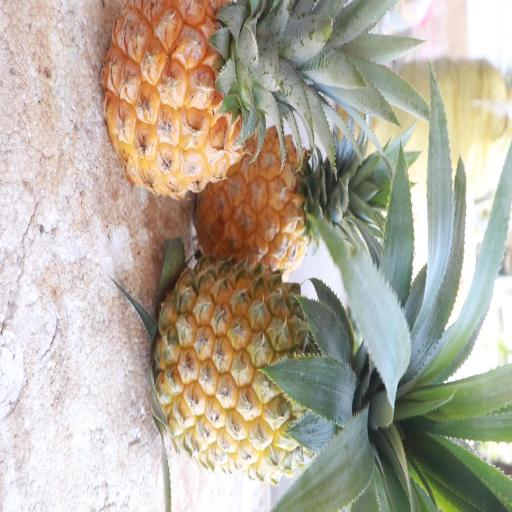Pineapple - v8 v1: (148, 253, 386, 484), (101, 0, 340, 221), (190, 127, 364, 294)
